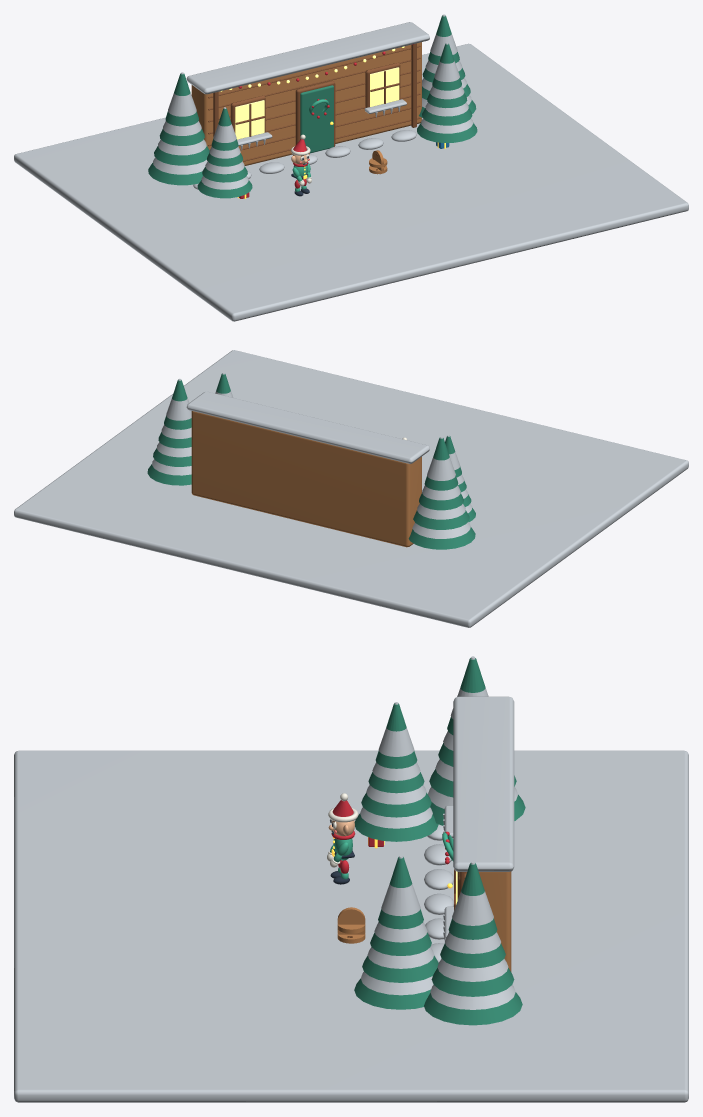
File: chapter-18.glb
3 renders of one model, top to bottom at view 1: azimuth 30°, elevation 25°; view 2: azimuth 150°, elevation 25°; view 3: azimuth 270°, elevation 25°, orthographic. The views are drawn at different scales.
Visible parts, largest first — view 1: Schneeboden, Werkstatt, Schneegesims, Wichteltür, Warmes Fenster, Warmes Fenster.001, Tannenzweig.004, Tannenzweig.008, Tannenzweig.009, Türrahmen, Tannenzweig.011, Schnee.011 (+7 smaller); view 2: Schneeboden, Werkstatt, Schneegesims, Tannenzweig.008, Tannenzweig.009, Tannenzweig.011, Schnee.008, Schnee.011, Tannenzweig.015, Tannenzweig.012, Tannenzweig.010, Schnee.009 (+1 smaller); view 3: Schneeboden, Schneegesims, Werkstatt, Tannenzweig.012, Tannenzweig.013, Tannenzweig.015, Tannenzweig, Schnee.012, Tannenzweig.005, Tannenzweig.004, Schnee.015, Tannenzweig.007 (+15 smaller).
Boxes of the visible parts, <box> form: Schneeboden: <box>14,43,688,321</box>; Werkstatt: <box>191,42,421,165</box>; Schneegesims: <box>186,22,429,94</box>; Wichteltür: <box>300,85,333,153</box>; Warmes Fenster: <box>235,100,264,139</box>; Warmes Fenster.001: <box>370,67,399,106</box>; Tannenzweig.004: <box>417,122,477,142</box>; Tannenzweig.008: <box>148,163,202,185</box>; Tannenzweig.009: <box>154,146,209,165</box>; Türrahmen: <box>295,81,335,146</box>; Tannenzweig.011: <box>165,73,198,126</box>; Schnee.011: <box>168,72,196,116</box>; Schneeboden: <box>14,350,688,627</box>; Werkstatt: <box>191,411,421,547</box>; Schneegesims: <box>186,391,429,463</box>; Tannenzweig.008: <box>408,527,475,549</box>; Tannenzweig.009: <box>413,510,469,529</box>; Tannenzweig.011: <box>424,437,458,490</box>; Schnee.008: <box>412,522,470,538</box>; Schnee.011: <box>427,436,455,480</box>; Tannenzweig.015: <box>164,380,191,429</box>; Tannenzweig.012: <box>147,464,191,485</box>; Tannenzweig.010: <box>419,493,463,510</box>; Schnee.009: <box>417,504,465,519</box>; Schneeboden: <box>14,750,688,1102</box>; Schneegesims: <box>453,696,514,871</box>; Werkstatt: <box>466,871,511,971</box>; Tannenzweig.012: <box>424,992,522,1025</box>; Tannenzweig.013: <box>431,968,514,996</box>; Tannenzweig.015: <box>448,863,497,939</box>; Tannenzweig: <box>354,813,438,841</box>; Schnee.012: <box>430,985,515,1009</box>; Tannenzweig.005: <box>362,955,438,982</box>; Tannenzweig.004: <box>354,978,430,1009</box>; Schnee.015: <box>452,861,493,925</box>; Tannenzweig.007: <box>378,857,423,929</box>.
Size of the model in its own units: 18 by 4.39 by 15.
